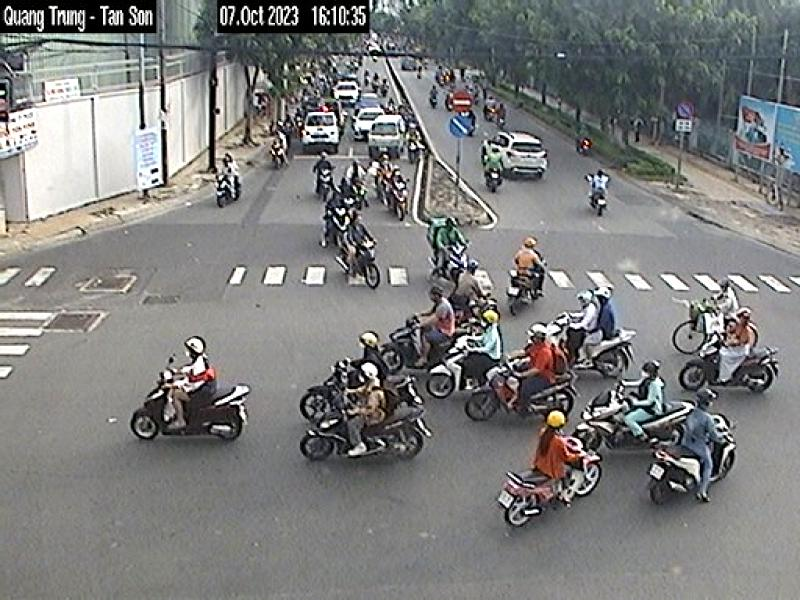car: (486, 131, 554, 176), (367, 115, 411, 148), (305, 112, 337, 148), (356, 109, 382, 133)
motorcycle: (130, 363, 259, 451), (497, 435, 602, 531), (642, 414, 750, 499), (569, 386, 694, 453), (305, 397, 428, 464), (302, 359, 427, 419), (681, 334, 781, 401), (424, 336, 528, 393), (375, 314, 472, 372), (547, 316, 630, 376), (336, 235, 382, 294), (508, 256, 552, 317), (424, 243, 478, 287), (319, 206, 357, 247), (212, 176, 248, 211), (391, 187, 412, 226), (586, 183, 610, 217), (328, 82, 363, 105), (318, 168, 336, 198), (272, 143, 285, 169)
